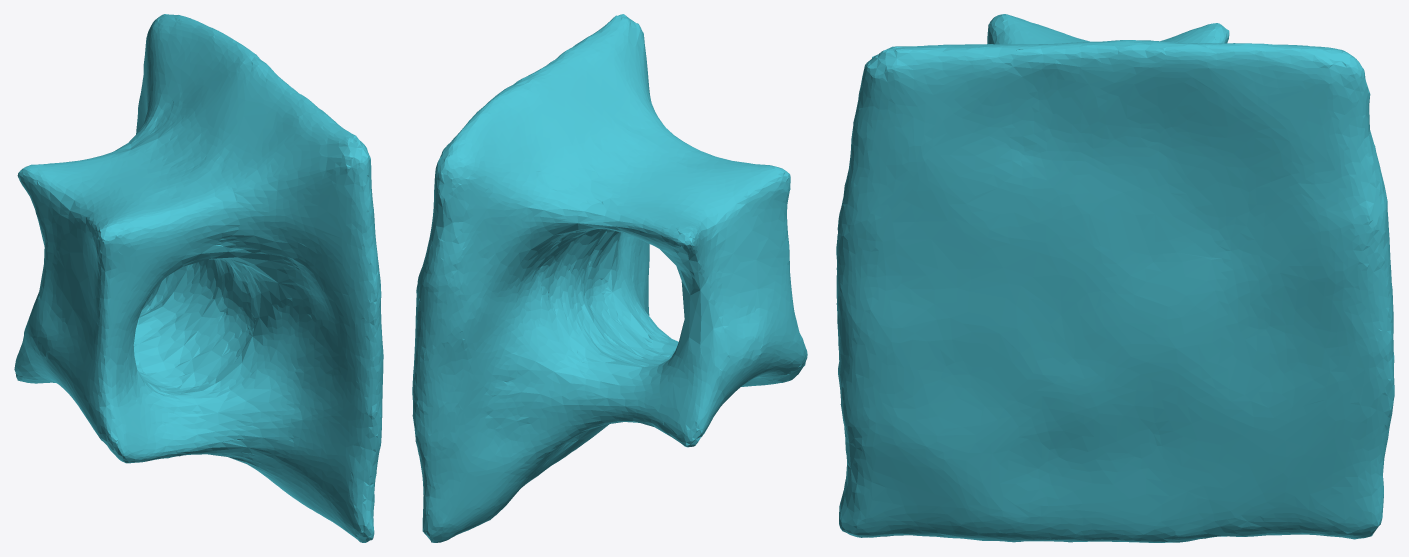
3 renders of one model, left to right at view 1: azimuth 30°, elevation 25°; view 2: azimuth 150°, elevation 25°; view 3: azimuth 270°, elevation 25°, orthographic. The views are drawn at different scales.
Visible parts, largest first — view 1: Renderer Node; view 2: Renderer Node; view 3: Renderer Node.
Part boxes in pixels (<box>): Renderer Node: <box>14,14,383,542</box>; Renderer Node: <box>412,14,807,542</box>; Renderer Node: <box>836,14,1394,542</box>.
Bounding box in the file's own units: 0.3962 × 0.6266 × 0.6314.
1 material, 1 textured.
